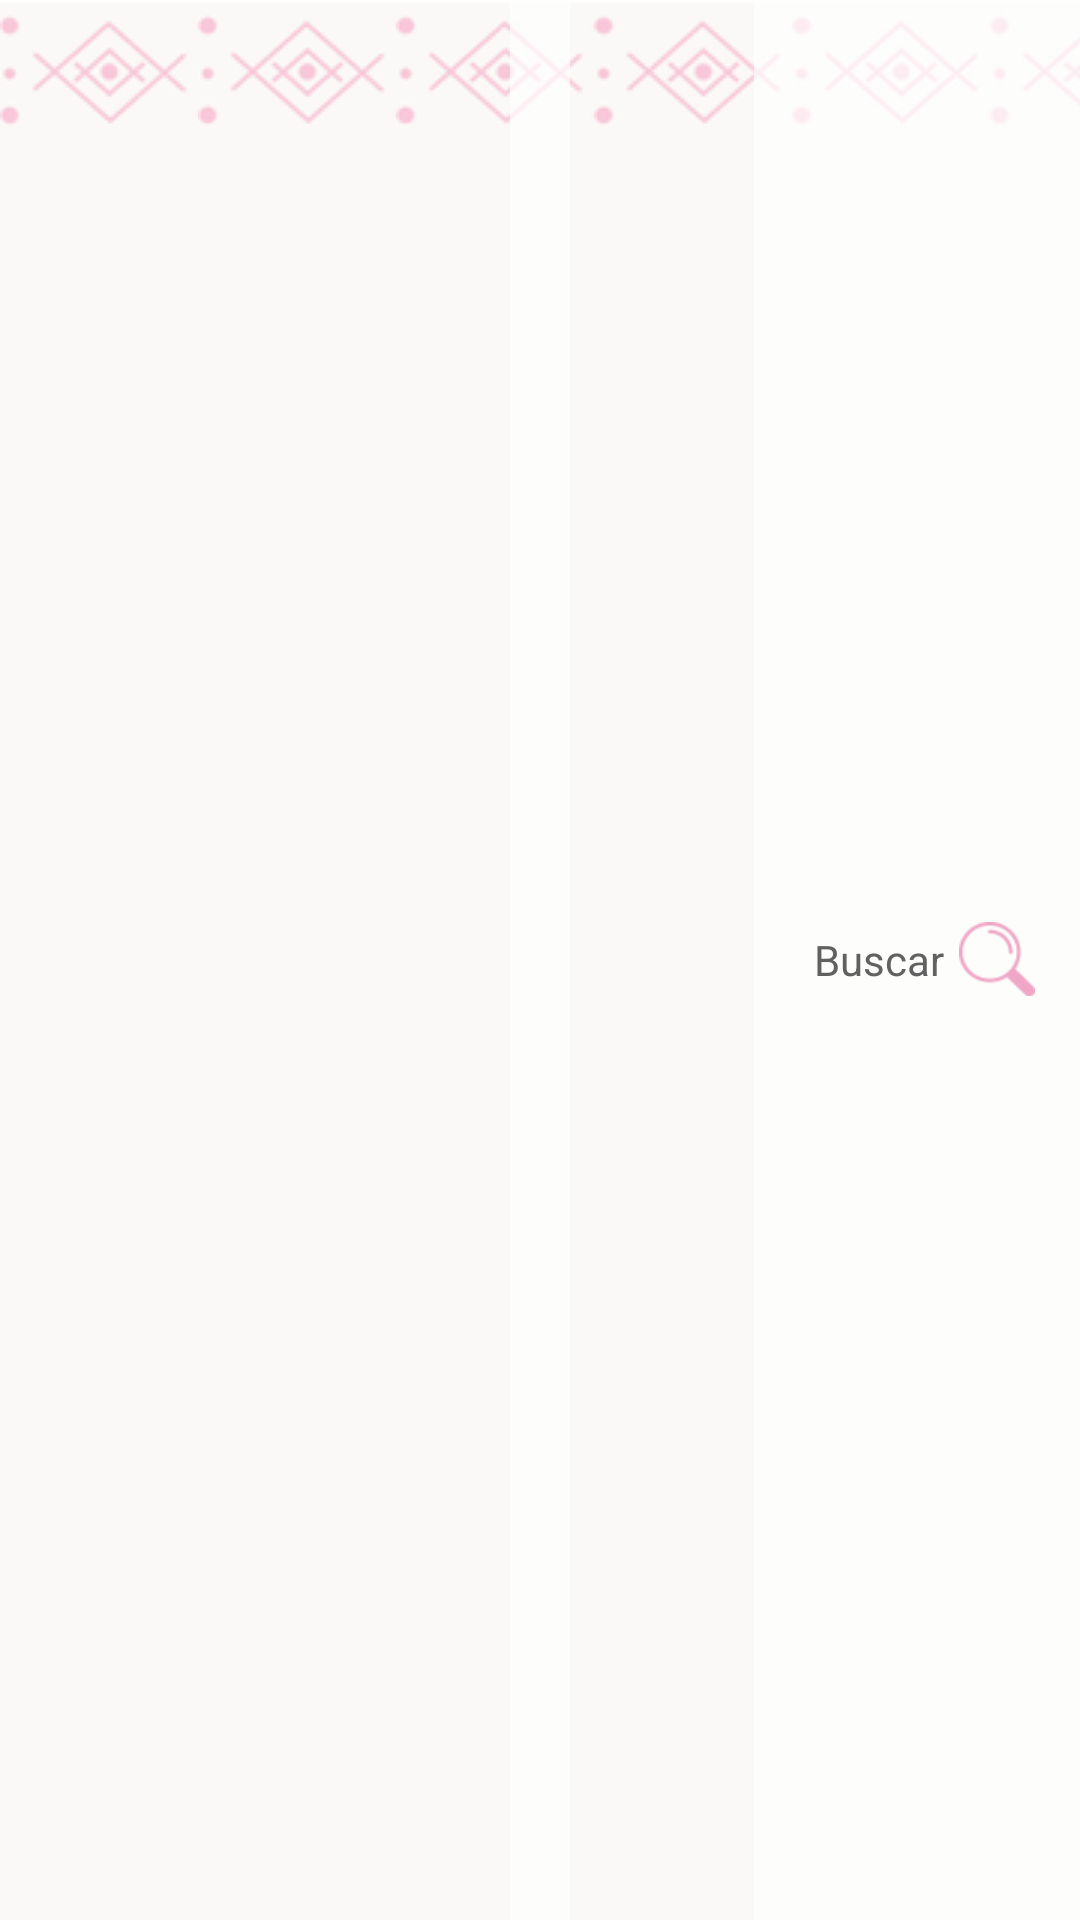

Locate icon controls on the screen. Image size 1080x1920, boxes as (x1, y1, x2, y2).
buscador: (959, 922, 1035, 996)
